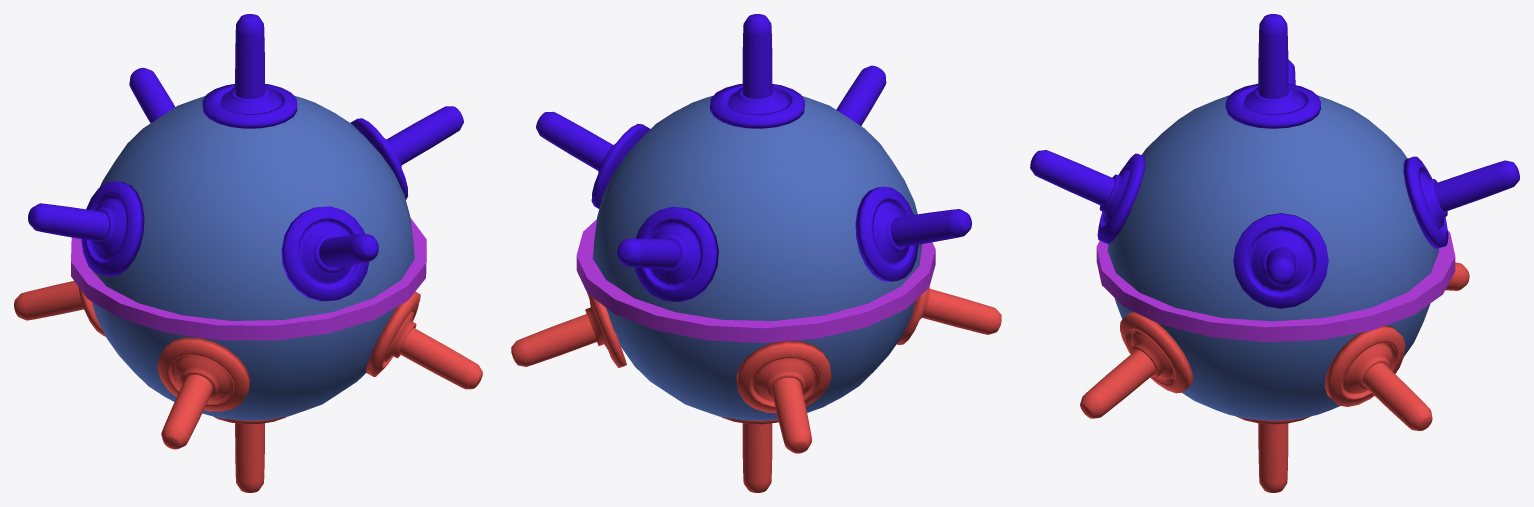
File: mine.fbx
The picture shows the model from 3 angles, left to right: view 1: azimuth 30°, elevation 25°; view 2: azimuth 150°, elevation 25°; view 3: azimuth 270°, elevation 25°; orthographic projection.
Parts seen in each view (by area): view 1: polySurface401; view 2: polySurface401; view 3: polySurface401.
Part boxes in pixels (x1=…): polySurface401: x1=14, y1=14, x2=482, y2=492; polySurface401: x1=511, y1=14, x2=1001, y2=492; polySurface401: x1=1030, y1=14, x2=1519, y2=492.
Size of the model in its own units: 145 by 152 by 143.
